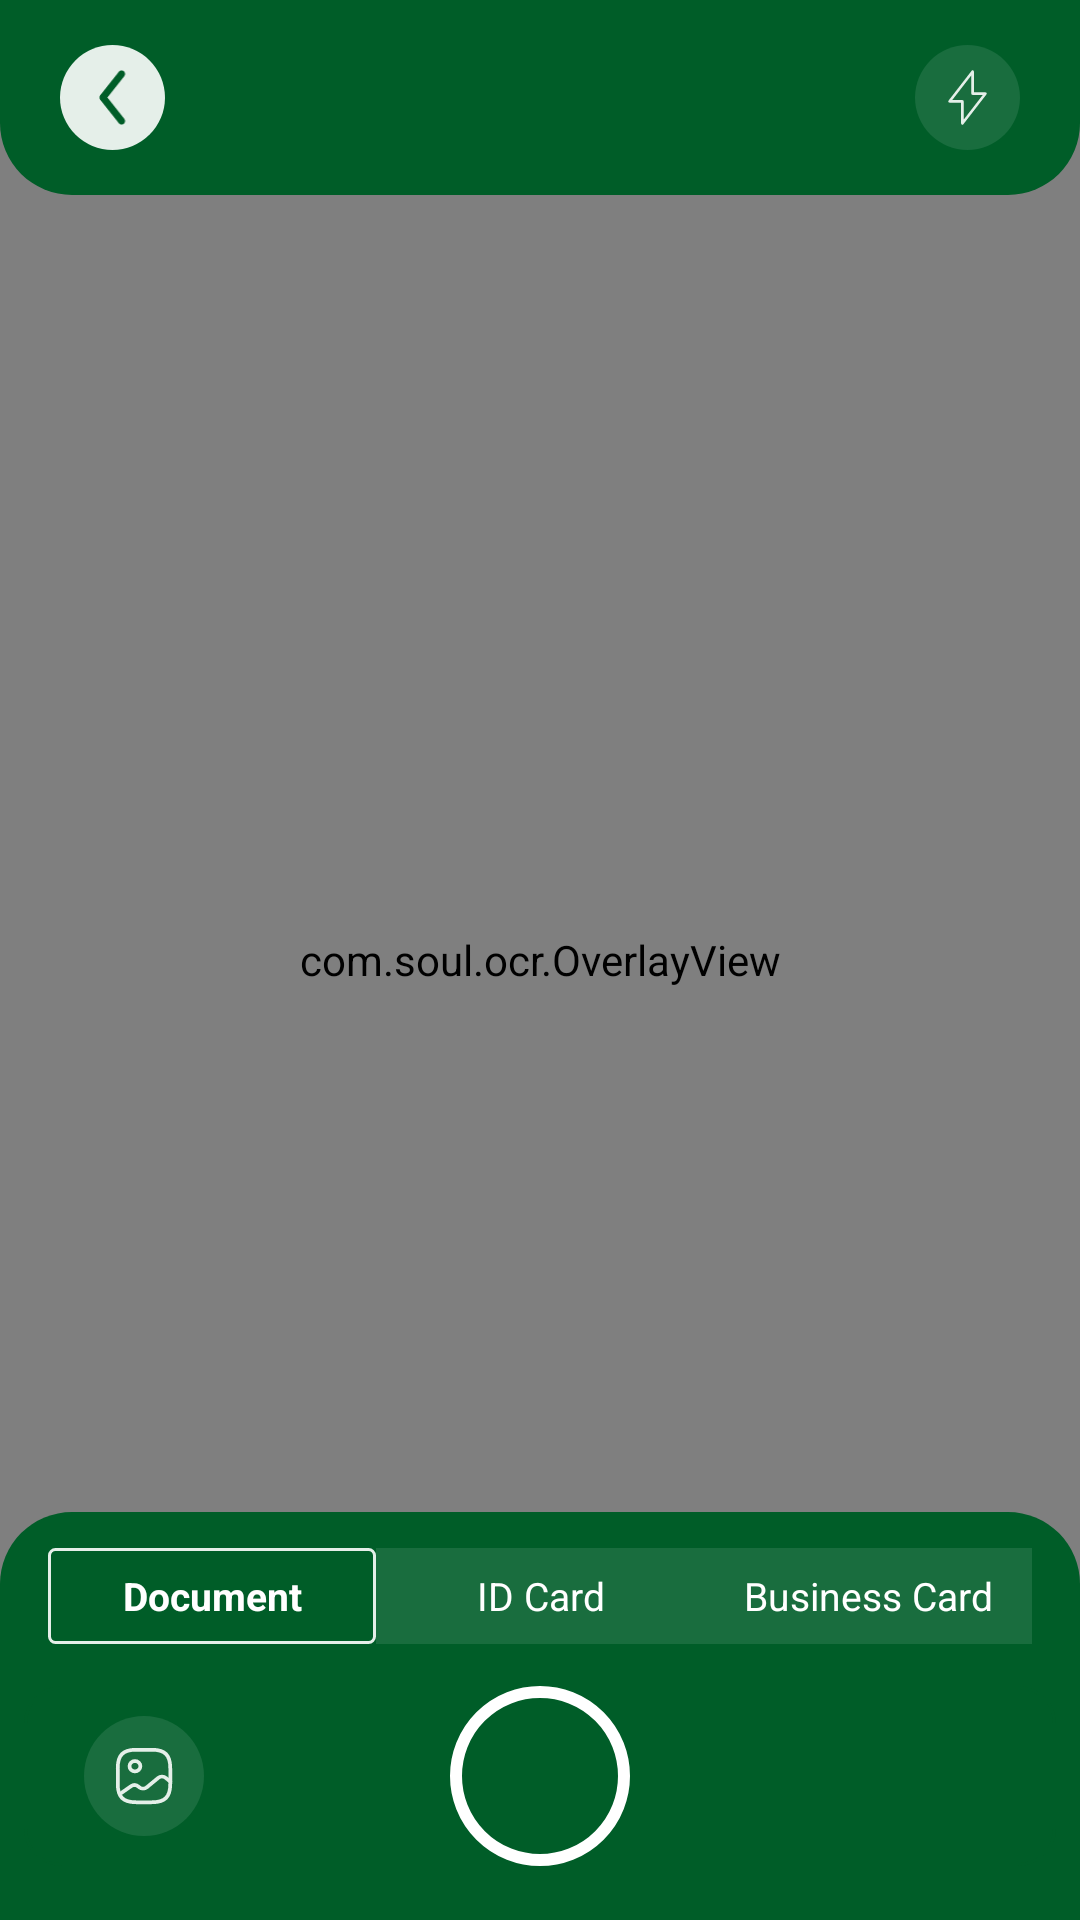

Icon bounding boxes for this 1080*1920 phone screenshot, format {"left": x1, "top": y1, "right": x2, "bottom": y2}:
Back: {"left": 60, "top": 45, "right": 165, "bottom": 150}
Flash: {"left": 915, "top": 45, "right": 1019, "bottom": 150}
Gallery: {"left": 85, "top": 1716, "right": 203, "bottom": 1836}
